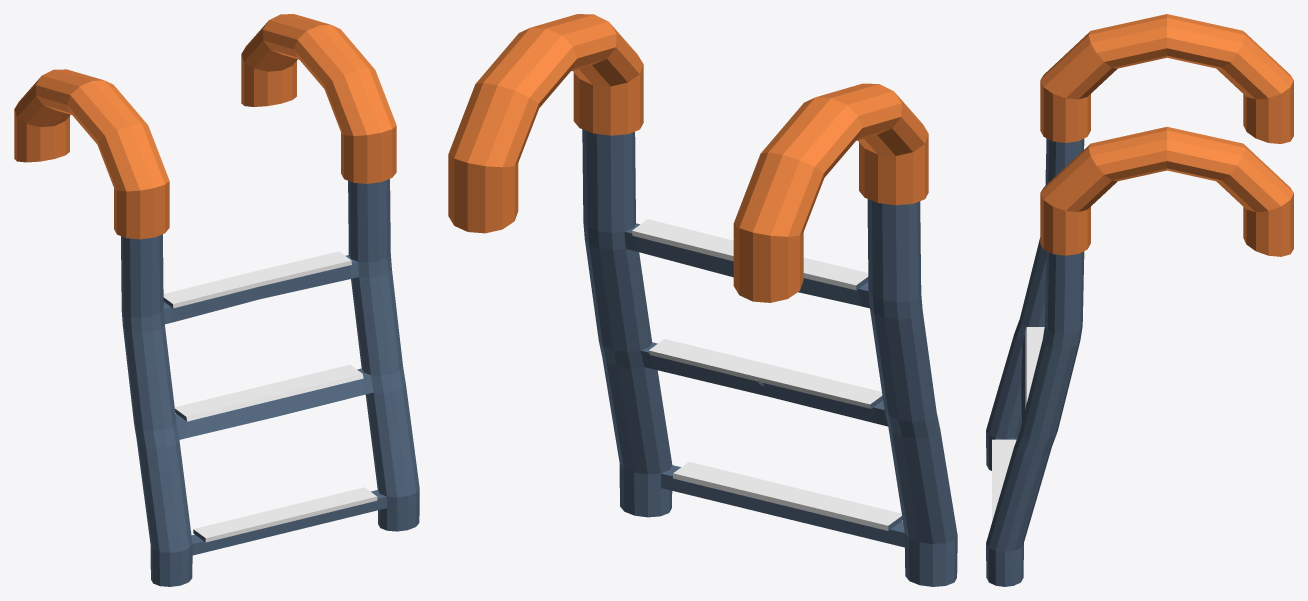
The model's file is Town_FountainLadder.fbx.
The picture shows the model from 3 angles, left to right: view 1: azimuth 30°, elevation 25°; view 2: azimuth 150°, elevation 25°; view 3: azimuth 270°, elevation 25°; orthographic projection. The views are drawn at different scales.
Visible parts, largest first — view 1: Torus; view 2: Torus; view 3: Torus.
Part boxes in pixels (left/top/right/bottom): Torus: left=14, top=14, right=419, bottom=586; Torus: left=448, top=14, right=957, bottom=586; Torus: left=986, top=14, right=1293, bottom=586.
Bounding box in the file's own units: 85.18 × 129 × 80.58.
